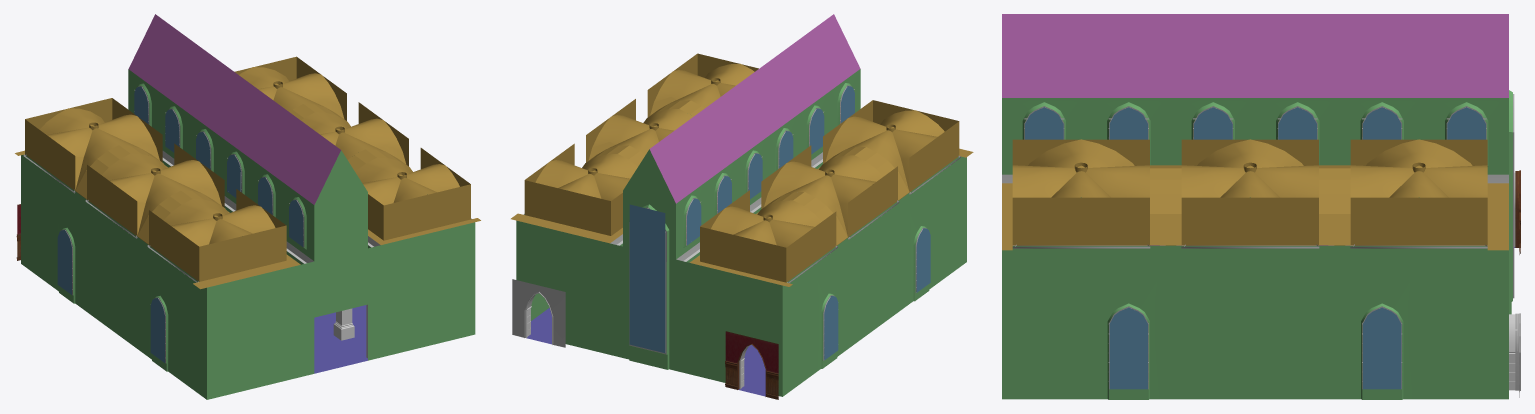
The model's file is MainRoom.fbx.
The picture shows the model from 3 angles, left to right: view 1: azimuth 30°, elevation 25°; view 2: azimuth 150°, elevation 25°; view 3: azimuth 270°, elevation 25°; orthographic projection. The views are drawn at different scales.
Parts seen in each view (by area): view 1: pasted__pasted__pasted__pasted__pPlane1 (×5), pasted__pasted__pasted__pPlane1 (×4), pasted__pasted__pPlane1 (×3), pasted__pPlane1 (×2), pasted__pasted__pasted__pasted__pasted__pPlane1 (×3), sm_ceiling_pasted__pasted__pasted__textureEditorIsolateSelec (×2), sm_ceiling_group155pasted__pPlane7, sm_ceiling_pasted__group155group156pasted__pasted__pPlane7, sm_ceiling_pasted__pasted__group155pasted__group156group157p, pasted__sm_ceiling_pasted__textureEditorIsolateSelectSet1pas, pasted__sm_ceiling_group155pasted__pPlane7, pasted__polySurface6 (+42 smaller); view 2: pasted__pasted__pasted__pasted__pasted__pasted__pasted__past (×3), pasted__pasted__pasted__pasted__pasted__pasted__pasted__pPla (×3), pasted__pasted__pasted__pasted__pasted__pPlane1 (×3), pasted__pasted__pasted__pasted__pPlane1 (×3), windowtall_pPlane9, pasted__pasted__pasted__pasted__pasted__pasted__pPlane1 (×2), windowtall_pPlane8, sm_ceiling_pasted__pasted__group155pasted__group156group157p, sm_ceiling_pasted__group155group156pasted__pasted__pPlane7, pasted__sm_ceiling_pasted__pasted__pasted__textureEditorIsol (×2), sm_ceiling_group155pasted__pPlane7, sm_ceiling_pasted__textureEditorIsolateSelectSet1pasted__pPl (+44 smaller); view 3: pasted__pasted__pasted__pasted__pasted__pasted__pasted__past (×16), pasted__polySurface6, pasted__pasted__polySurface6, pasted__sm_ceiling_pasted__pasted__textureEditorIsolateSelec (×2), pasted__pPlane8, pasted__pasted__pPlane8, pasted__pasted__pasted__pPlane8, pasted__pasted__pasted__pasted__pPlane8, pasted__pasted__pasted__pasted__pasted__pPlane8, pasted__pasted__pasted__pasted__pasted__pasted__pPlane8, pasted__sm_ceiling_pasted__pasted__pasted__pasted__textureEd, pasted__sm_ceiling_pasted__pasted__pasted__textureEditorIsol (+19 smaller).
Part boxes in pixels (bbox=[...]): pasted__pasted__pasted__pasted__pPlane1 (×5): bbox=[83, 220, 475, 399]; pasted__pasted__pasted__pPlane1 (×4): bbox=[114, 192, 475, 399]; pasted__pasted__pPlane1 (×3): bbox=[207, 235, 421, 343]; pasted__pPlane1 (×2): bbox=[260, 261, 421, 360]; pasted__pasted__pasted__pasted__pasted__pPlane1 (×3): bbox=[21, 197, 206, 343]; sm_ceiling_pasted__pasted__pasted__textureEditorIsolateSelec (×2): bbox=[87, 165, 286, 281]; sm_ceiling_group155pasted__pPlane7: bbox=[40, 108, 159, 190]; sm_ceiling_pasted__group155group156pasted__pasted__pPlane7: bbox=[102, 153, 221, 235]; sm_ceiling_pasted__pasted__group155pasted__group156group157p: bbox=[164, 199, 275, 246]; pasted__sm_ceiling_pasted__textureEditorIsolateSelectSet1pas: bbox=[383, 184, 470, 240]; pasted__sm_ceiling_group155pasted__pPlane7: bbox=[355, 157, 459, 205]; pasted__polySurface6: bbox=[52, 174, 82, 308]; pasted__pasted__pasted__pasted__pasted__pasted__pasted__past (×3): bbox=[516, 220, 782, 340]; pasted__pasted__pasted__pasted__pasted__pasted__pasted__pPla (×3): bbox=[569, 127, 729, 357]; pasted__pasted__pasted__pasted__pasted__pPlane1 (×3): bbox=[782, 156, 966, 396]; pasted__pasted__pasted__pasted__pPlane1 (×3): bbox=[844, 196, 966, 351]; windowtall_pPlane9: bbox=[629, 204, 665, 352]; pasted__pasted__pasted__pasted__pasted__pasted__pPlane1 (×2): bbox=[676, 263, 813, 382]; windowtall_pPlane8: bbox=[623, 191, 675, 370]; sm_ceiling_pasted__pasted__group155pasted__group156group157p: bbox=[825, 110, 944, 191]; sm_ceiling_pasted__group155group156pasted__pasted__pPlane7: bbox=[764, 155, 883, 236]; pasted__sm_ceiling_pasted__pasted__pasted__textureEditorIsol (×2): bbox=[524, 99, 635, 235]; sm_ceiling_group155pasted__pPlane7: bbox=[711, 200, 821, 247]; sm_ceiling_pasted__textureEditorIsolateSelectSet1pasted__pPl: bbox=[700, 226, 786, 282]; pasted__pasted__pasted__pasted__pasted__pasted__pasted__past (×16): bbox=[1002, 98, 1508, 399]; pasted__polySurface6: bbox=[1086, 246, 1170, 399]; pasted__pasted__polySurface6: bbox=[1340, 246, 1424, 399]; pasted__sm_ceiling_pasted__pasted__textureEditorIsolateSelec (×2): bbox=[1012, 139, 1487, 245]; pasted__pPlane8: bbox=[1002, 14, 1086, 97]; pasted__pasted__pPlane8: bbox=[1086, 14, 1170, 97]; pasted__pasted__pasted__pPlane8: bbox=[1171, 14, 1255, 97]; pasted__pasted__pasted__pasted__pPlane8: bbox=[1255, 14, 1339, 97]; pasted__pasted__pasted__pasted__pasted__pPlane8: bbox=[1340, 14, 1424, 97]; pasted__pasted__pasted__pasted__pasted__pasted__pPlane8: bbox=[1424, 14, 1508, 97]; pasted__sm_ceiling_pasted__pasted__pasted__pasted__textureEd: bbox=[1350, 197, 1487, 245]; pasted__sm_ceiling_pasted__pasted__pasted__textureEditorIsol: bbox=[1181, 197, 1318, 245].
Size of the model in its own units: 2096 by 1546 by 2457.
